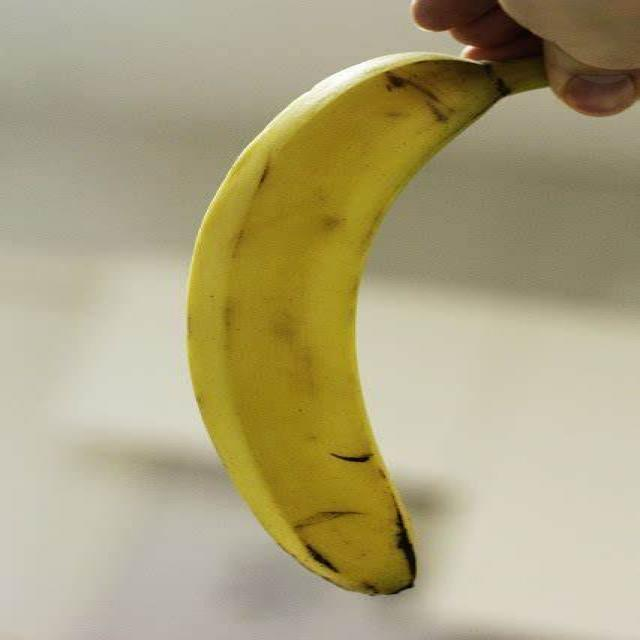Banana: (166, 53, 495, 595)
